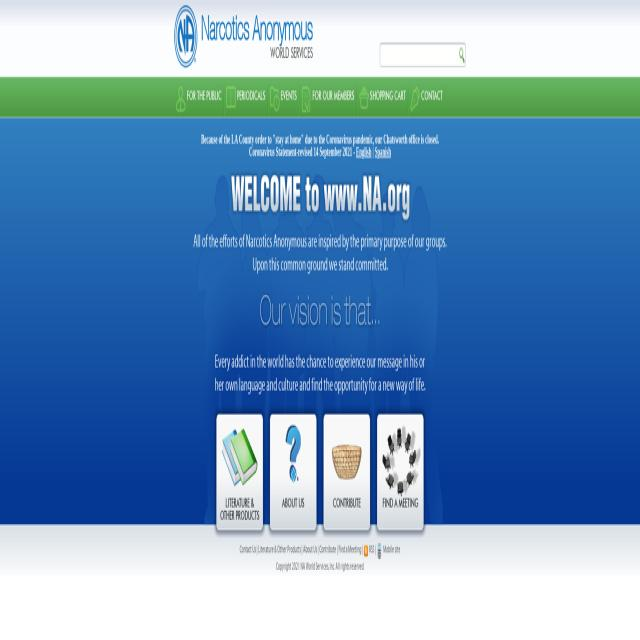button: (229, 170, 411, 224), (174, 6, 313, 68), (270, 414, 316, 529), (217, 415, 263, 530), (377, 416, 423, 530), (324, 416, 370, 529), (259, 293, 381, 329), (300, 77, 358, 117), (174, 77, 224, 117), (358, 77, 408, 117), (224, 77, 268, 117), (408, 77, 446, 117), (268, 77, 300, 117), (459, 47, 465, 63), (377, 542, 382, 558), (364, 544, 368, 558)
field: (380, 42, 466, 68)
